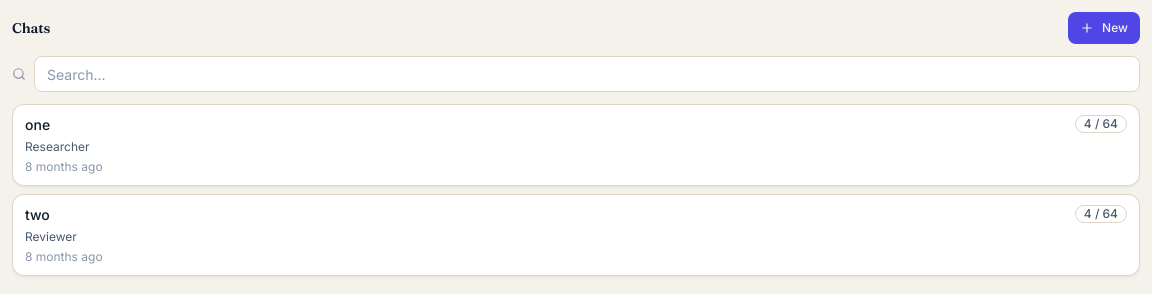
it: ConversationList › filter matches by agent name
Check: the text "one" is shown, box [25, 116, 50, 133]
Check: the text "Researcher" is shown, box [25, 139, 90, 154]
Type "reviewer" into the field named "search conversations" at [587, 74], box [34, 56, 1140, 92]
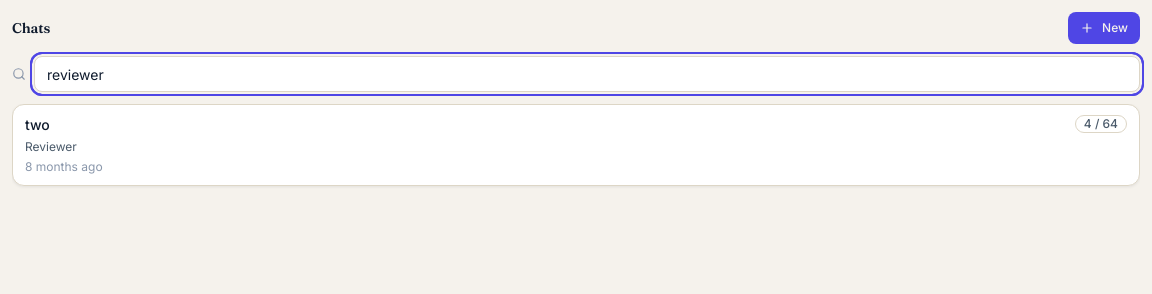
Check: the text "two" is shown, box [25, 116, 50, 133]
Check: the option "one" is gone
